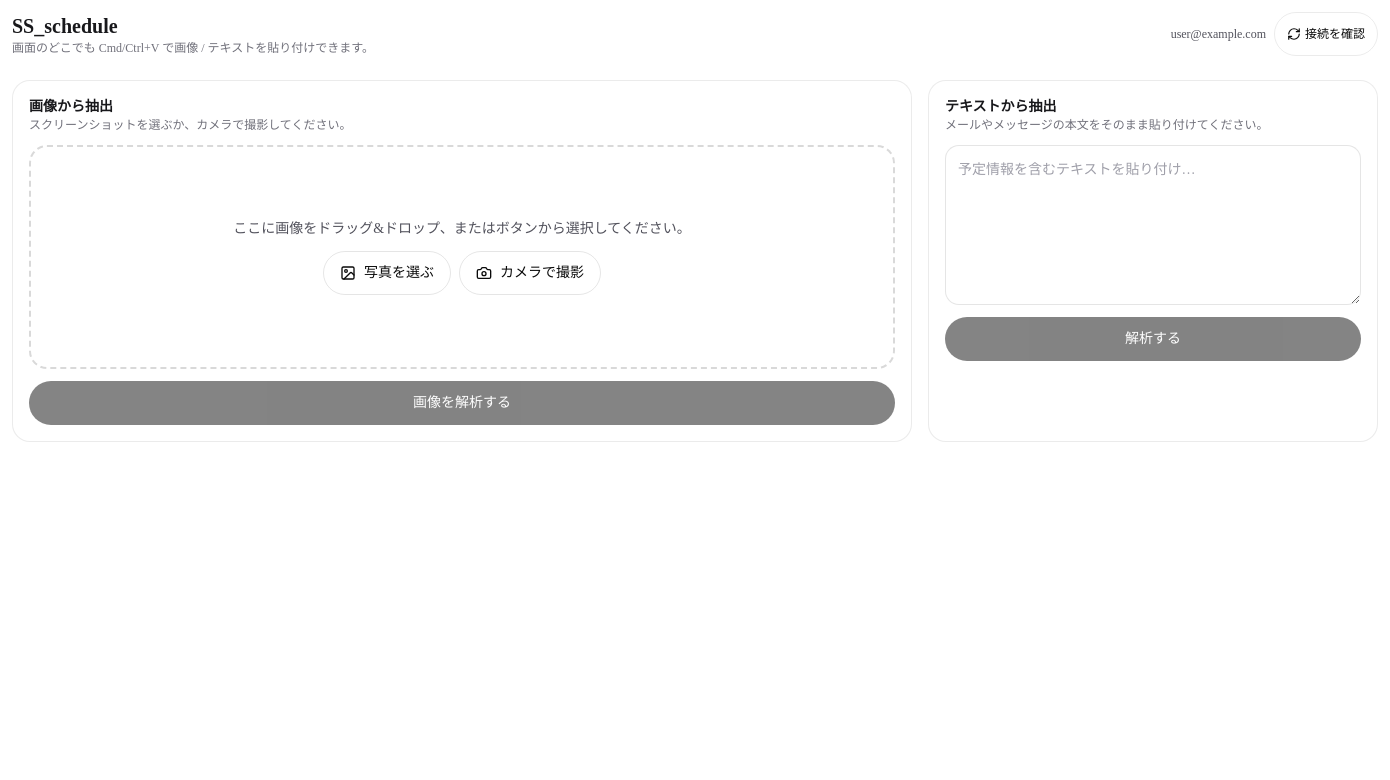
Test: ScreenshotComposer › shows the friendly error and the manual-fallback link when extraction fails
Type "壊れたテキスト" into the text box with placeholder "予定情報を含むテキストを貼り付け…" at (1153, 225), box 945,145 -> 1361,305
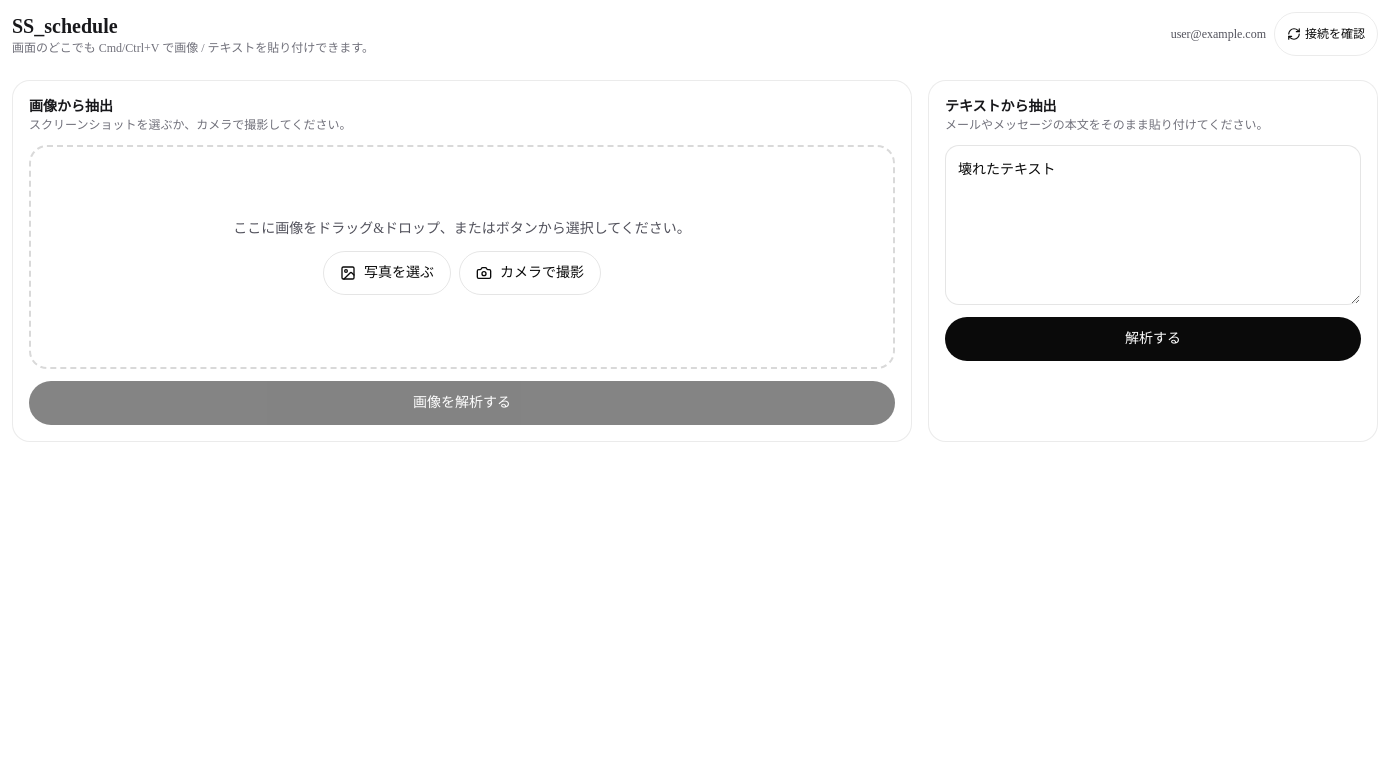
Click the button "解析する" at (1153, 339), box 945,317 -> 1361,361
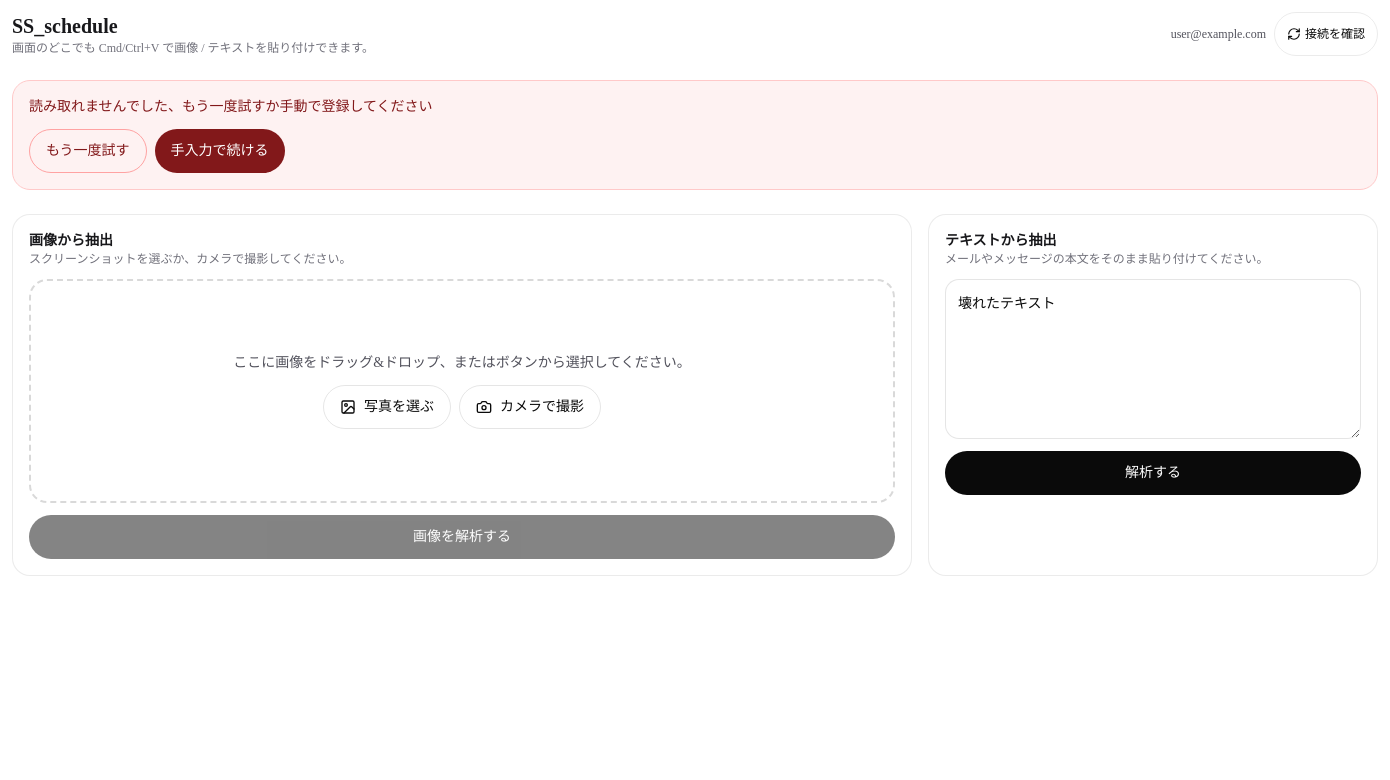
Expected: the message shows "読み取れませんでした", 29,99 -> 433,114
Expected: the button "もう一度試す" is shown, 29,129 -> 147,173
